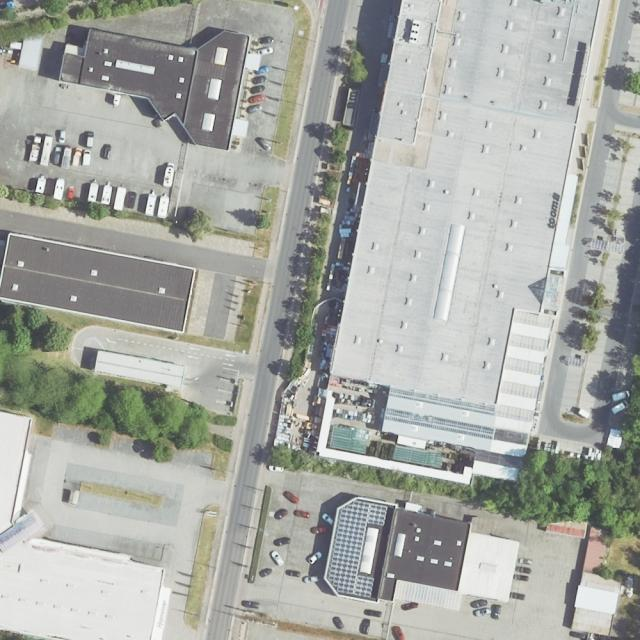PV: (324, 498, 388, 599)
